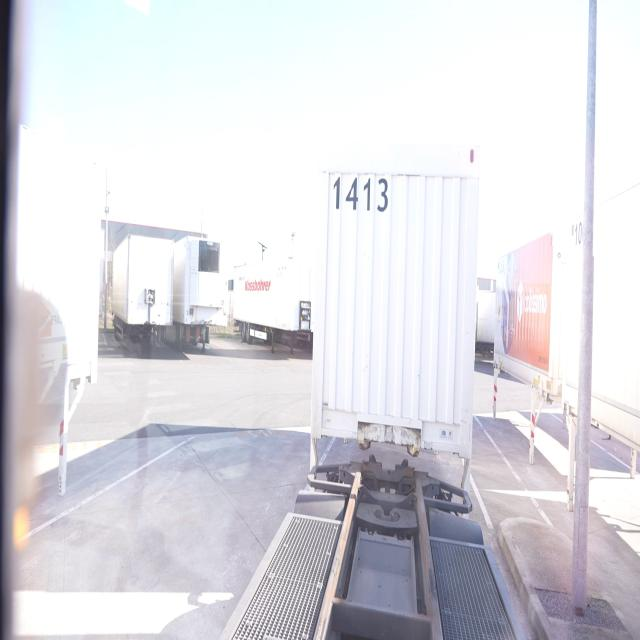Code: (334, 167, 393, 217)
